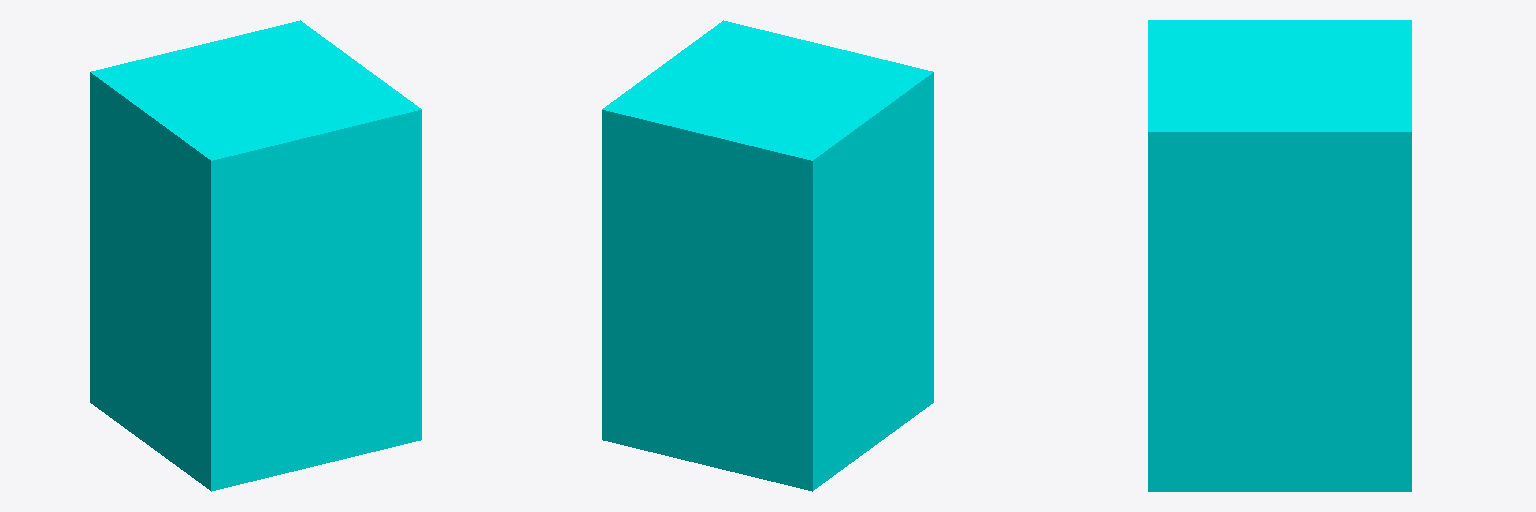
The robot description file, URDF, robot "square":
<?xml version="1.0"?>
 <robot name="square">
  <material name="Cyan">
    <color rgba="0 1.0 1.0 1.0"/>
  </material>
  
  <link name="square">
    <contact>
      <friction_anchor/>
      <lateral_friction value="0.5"/>
      <rolling_friction value="0.1"/>
      <spinning_friction value="0.1"/>
    </contact>

    <inertial>
      <origin xyz="0 0 0" rpy="0 0 0"/>
      <mass value="0.19125"/>
      <inertia ixx=" 0.00013"  ixy="0"  ixz="0" iyy=" 0.00013" iyz="0" izz="0.00008" />
    </inertial>

    <visual>
      <origin xyz="0 0 0" rpy="0 0 0" />
      <geometry>
        <box size="0.05 0.05 0.075" />
      </geometry>
      <material name="Cyan" />
    </visual>

    <collision>
      <origin xyz="0 0 0" rpy="0 0 0"/>
      <geometry>
        <box size="0.05 0.05 0.075" />
      </geometry>
    </collision>
  </link>
</robot>

--- What the picture shows (computed from the rendered views, not written in the file) ---
3 views of the same robot in one strip: view 1: azimuth 30°, elevation 25°; view 2: azimuth 150°, elevation 25°; view 3: azimuth 270°, elevation 25° (orthographic).
Robot: square — 1 links, 0 joints (none); root link square; default pose: every joint at zero.
Visible links, largest first — view 1: square; view 2: square; view 3: square.
Boxes of the visible links, box(x1,y1,x2,y2) form: square: box(90, 20, 421, 491); square: box(602, 20, 933, 491); square: box(1148, 20, 1411, 491).
Bounding box of the posed robot: 0.05 × 0.05 × 0.075 m (x, y, z).
Geometry: primitives only (box / cylinder / sphere), no mesh files.